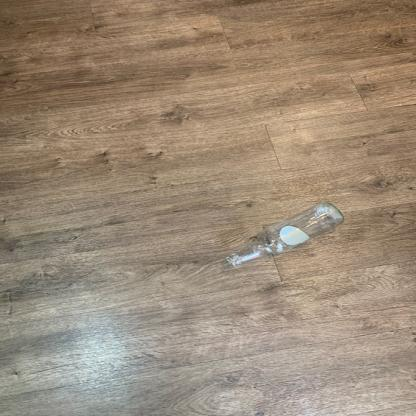trash: (225, 200, 349, 269)
